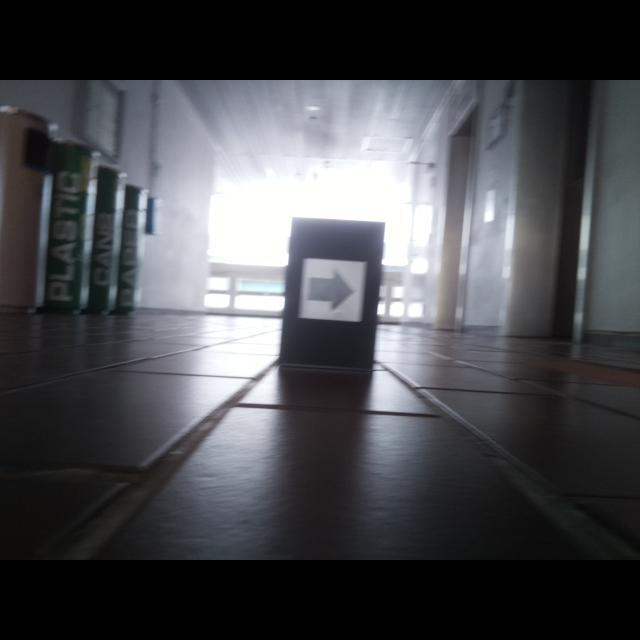RIGHT: (306, 265, 357, 315)
